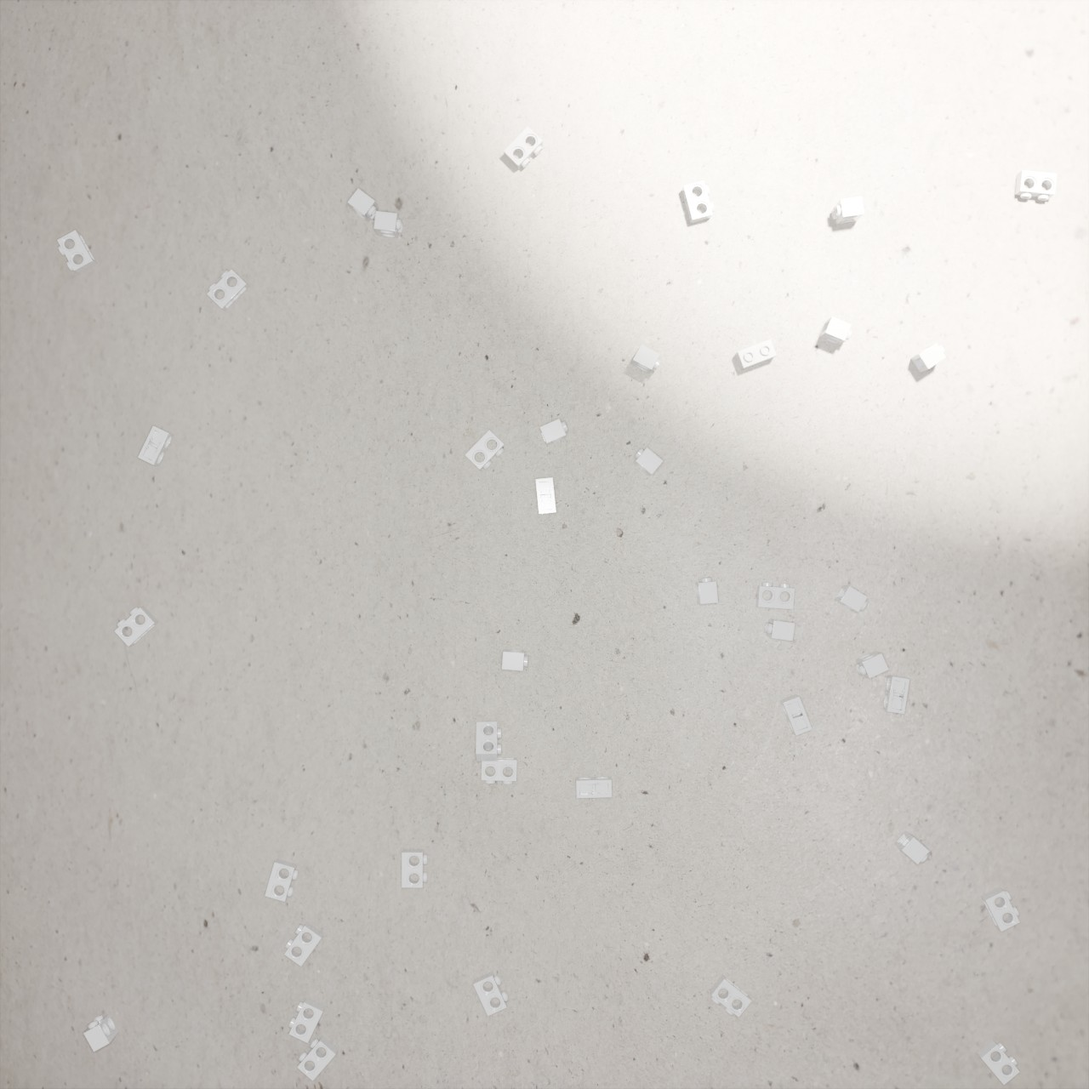lego: (976, 1039, 1020, 1085), (709, 974, 752, 1018), (297, 1035, 338, 1081), (207, 269, 250, 312), (284, 921, 324, 967), (57, 230, 98, 274), (114, 607, 159, 647), (980, 887, 1020, 932), (503, 126, 543, 170), (288, 997, 326, 1043), (473, 971, 509, 1016), (465, 430, 505, 470), (265, 859, 299, 902), (138, 426, 174, 466), (682, 180, 715, 223), (780, 694, 813, 736), (83, 1014, 119, 1052), (735, 339, 777, 370), (1015, 170, 1057, 201), (894, 830, 930, 865), (910, 342, 947, 373), (347, 188, 379, 223), (756, 582, 795, 610), (882, 675, 910, 714), (401, 849, 428, 888), (476, 722, 501, 762), (481, 757, 517, 784), (819, 316, 852, 345), (855, 651, 889, 679), (834, 585, 868, 612), (631, 344, 661, 374), (832, 196, 864, 224), (633, 447, 663, 476), (535, 477, 556, 515), (374, 211, 403, 238), (540, 419, 568, 446), (576, 777, 612, 798), (764, 619, 795, 641), (695, 577, 718, 604), (502, 649, 528, 671)
